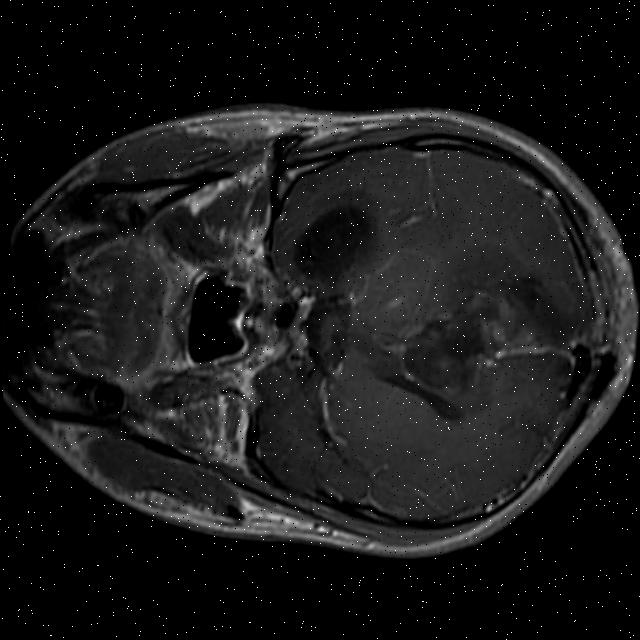Glioma: (428, 262, 568, 370)
